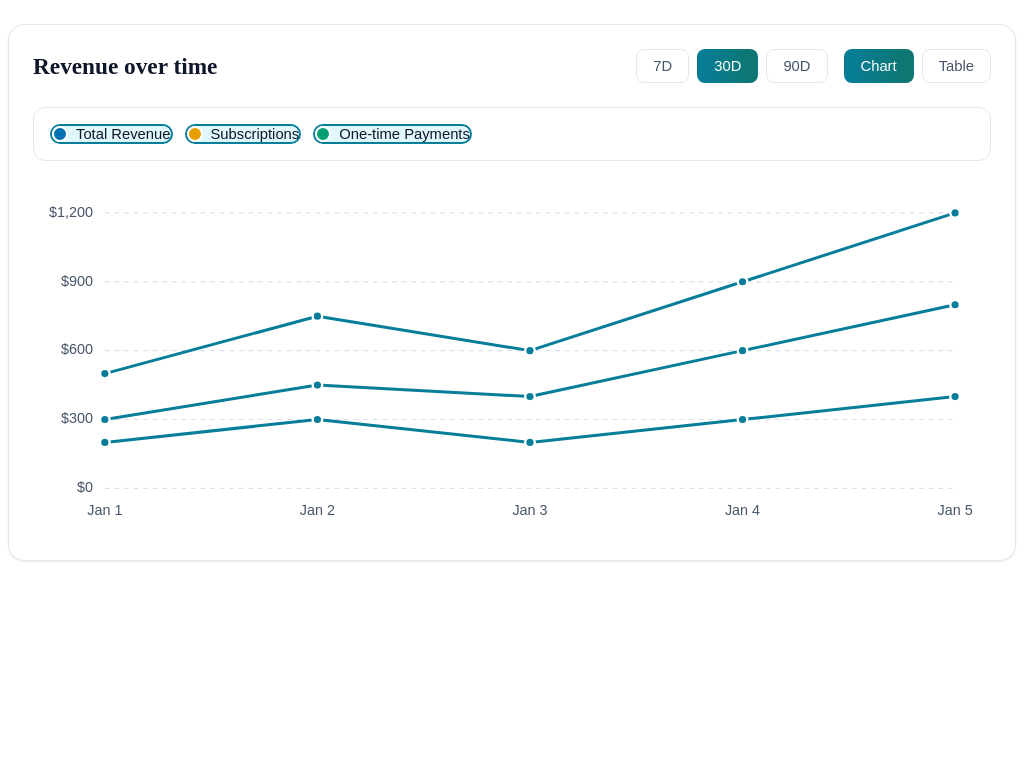
Test case: RevenueChart — Interactive Legend Functionality › prevents hiding the last visible series
This screenshot has width=1024, height=768.
What coordinates should you click on to do the following:
click the button with aria-label "subscriptions series, visible"
I would click on:
 (243, 134)
Its box is [184,124,301,144].
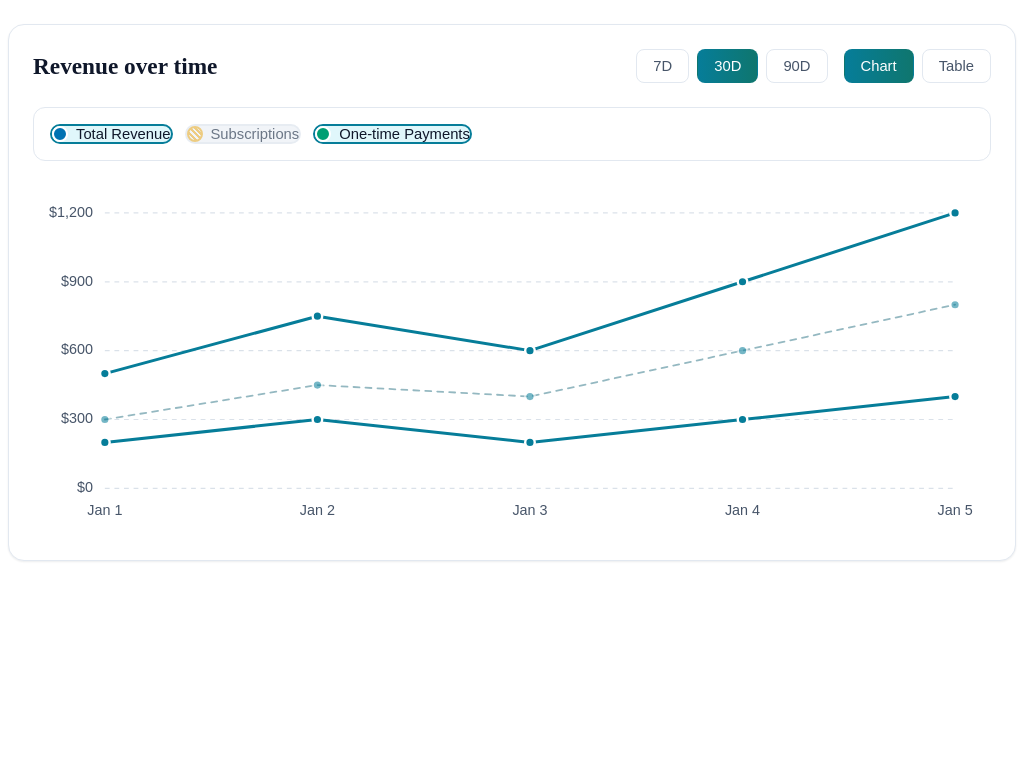
What coordinates should you click on to do the following:
click the button with aria-label "one-time payments series, visible"
I would click on:
 (392, 134)
Its box is [313,124,472,144].
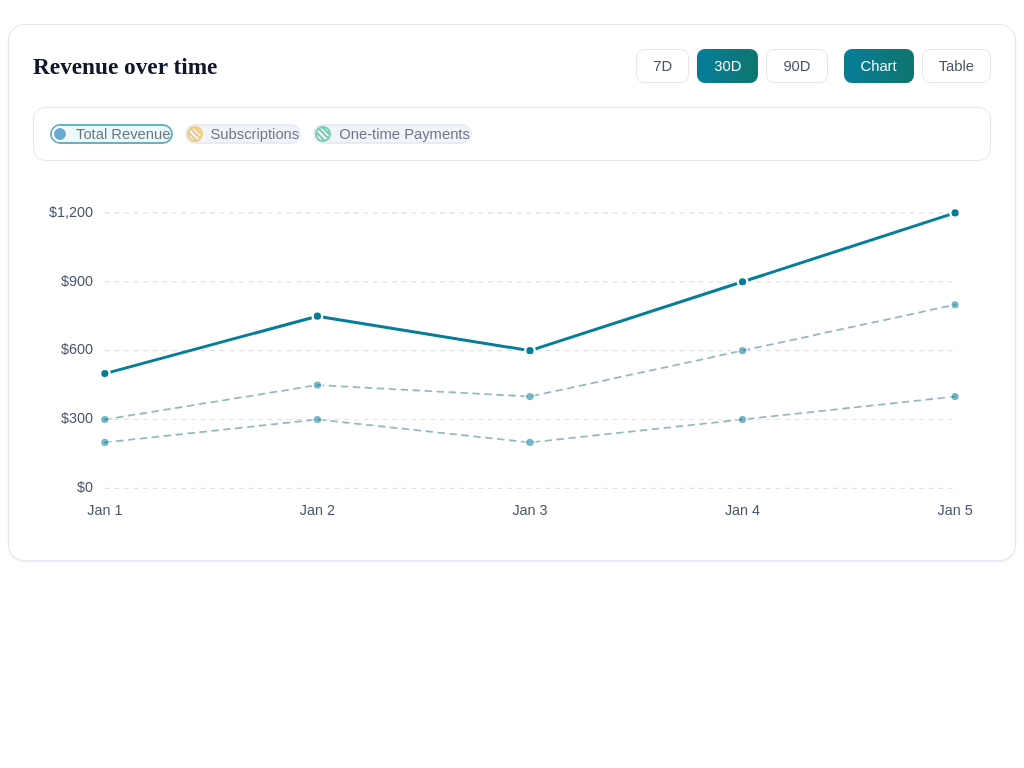
Result: the button with aria-label "subscriptions series, hidden" is shown at [184,124,301,144]
Result: the button with aria-label "one-time payments series, hidden" is shown at [313,124,472,144]
Result: the button with aria-label "total revenue series, visible" is disabled at [50,124,172,144]
